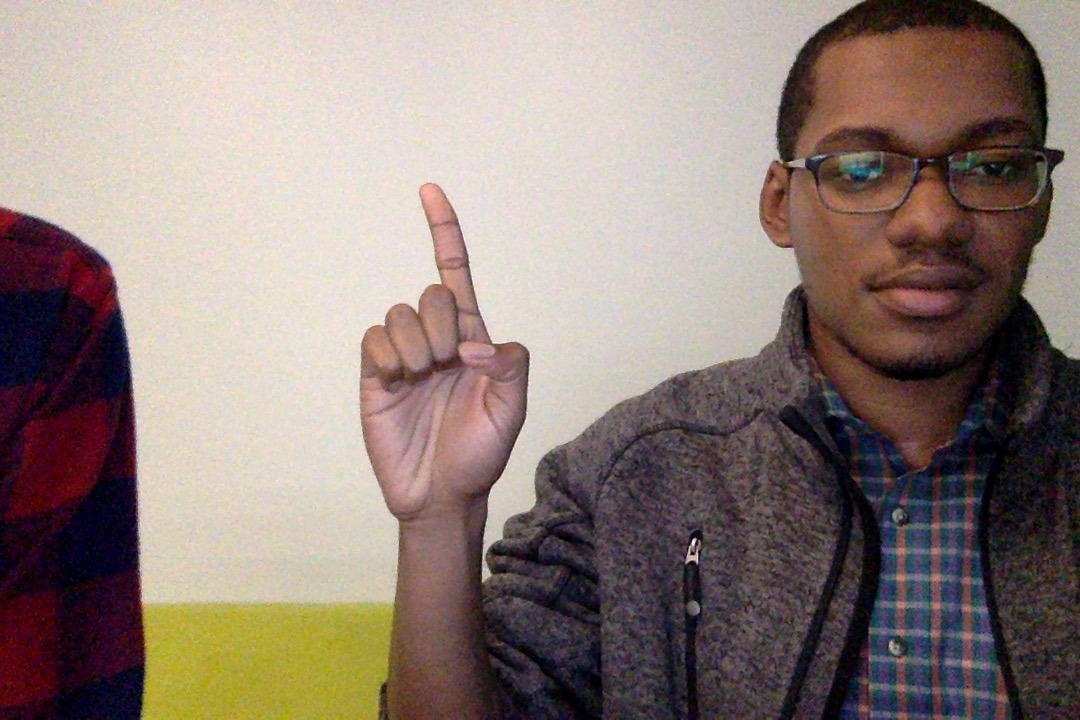d: (329, 165, 540, 545)
